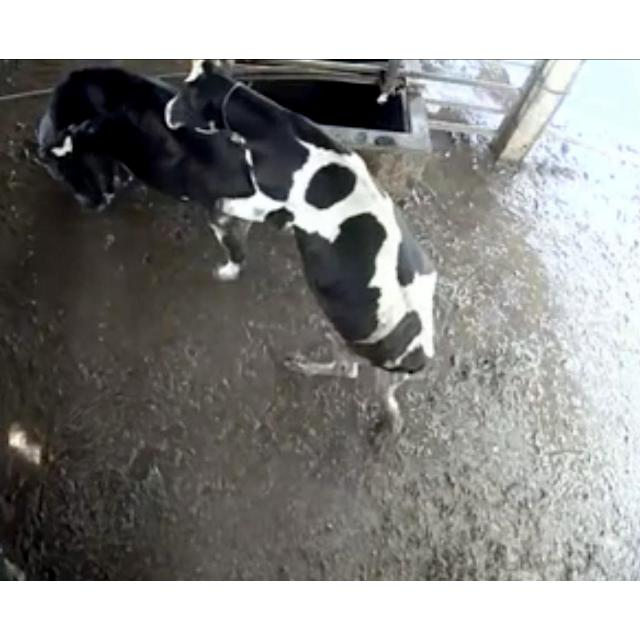ride: (152, 59, 452, 444)
